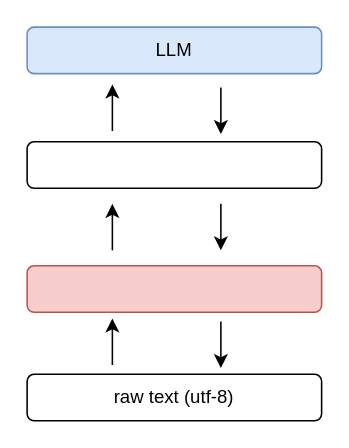
Some shapes in this 349 by 448 pixel diagram are drawn without their labels. The box of each missing label's shape, as (x1, y1, x2, y2) in pixels:
Tokenizer: (26, 264, 322, 312)
Tokens: (26, 140, 322, 188)
